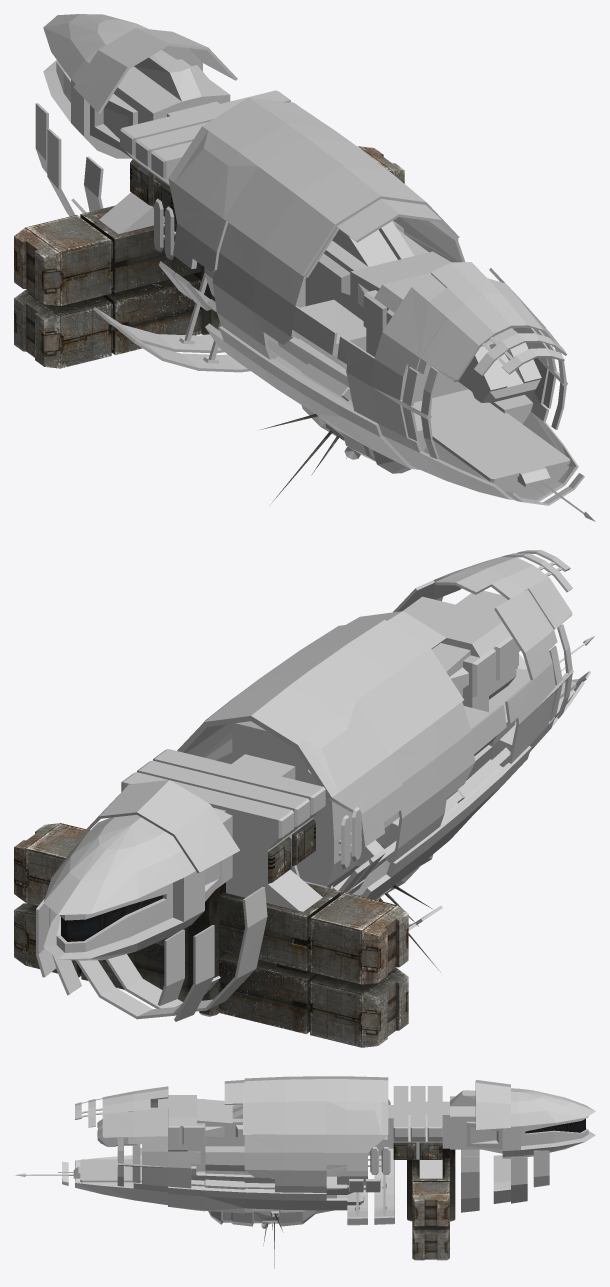
The model's file is spacestation_outpost_pirate_l1.fbx.
3 views of the same model, one above another, from view 1: azimuth 30°, elevation 25°; view 2: azimuth 150°, elevation 25°; view 3: azimuth 270°, elevation 25° (orthographic). The views are drawn at different scales.
Visible parts, largest first — view 1: mesh_node; view 2: mesh_node; view 3: mesh_node.
Part boxes in pixels (x1,y1,x2,y2): mesh_node: [14, 14, 595, 521]; mesh_node: [14, 550, 595, 1047]; mesh_node: [14, 1076, 595, 1268].
Bounding box in the file's own units: 125 × 104 × 321.
